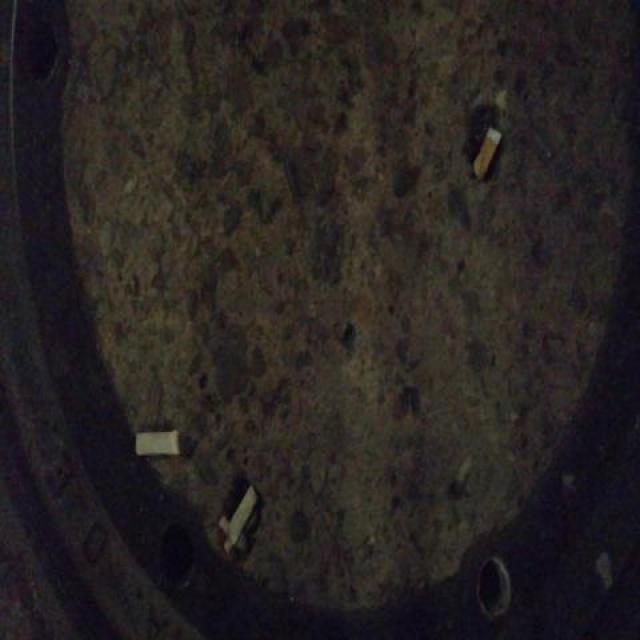non-organic waste: (221, 481, 263, 550), (469, 122, 503, 183), (130, 425, 182, 460)
